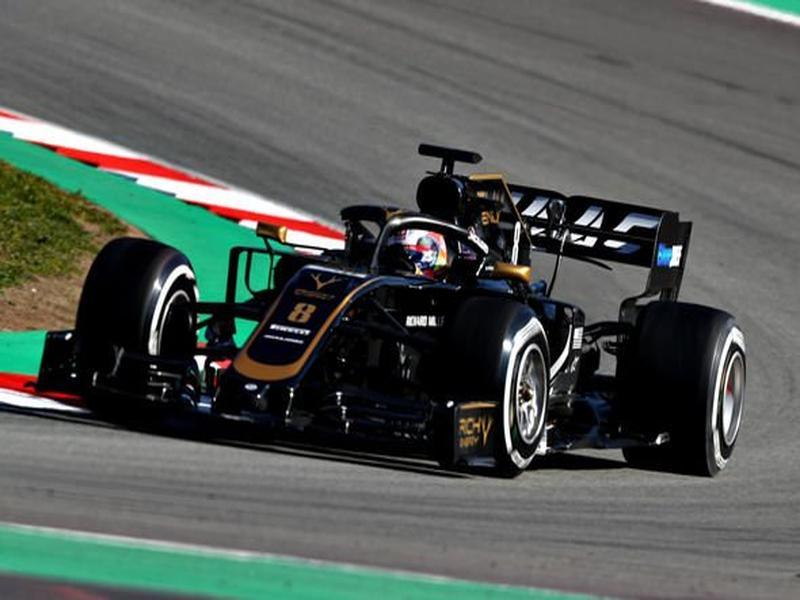f1: (49, 97, 767, 496)
